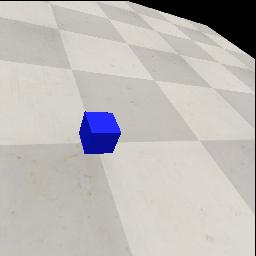box: (79, 111, 121, 154)
